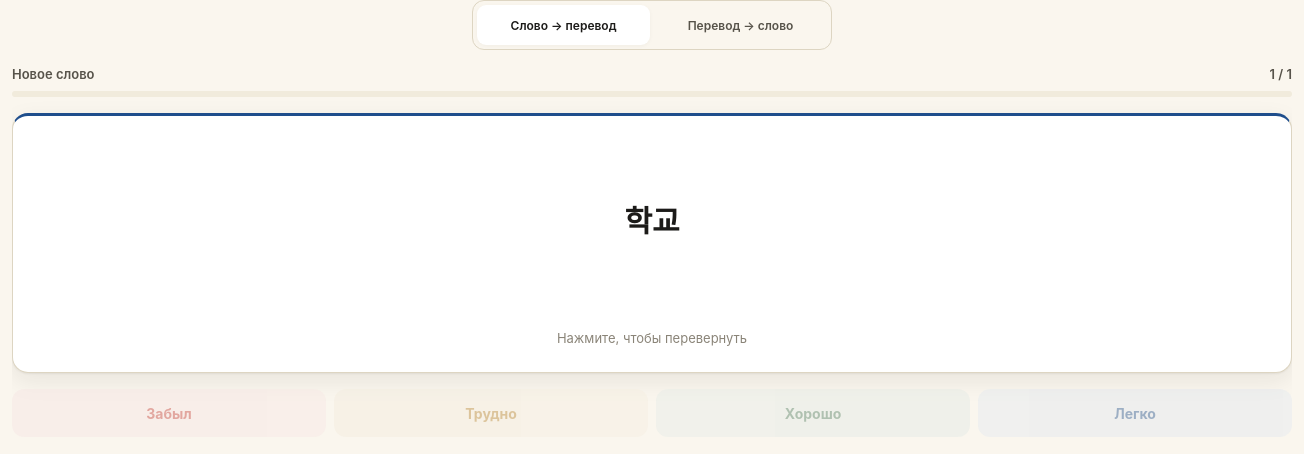
Test: возвращает забытую карточку и сохраняет её повторную оценку
The image size is (1304, 454).
Step 1. Click the button with aria-label "Показать ответ" → [652, 243], box [12,113,1292,373]
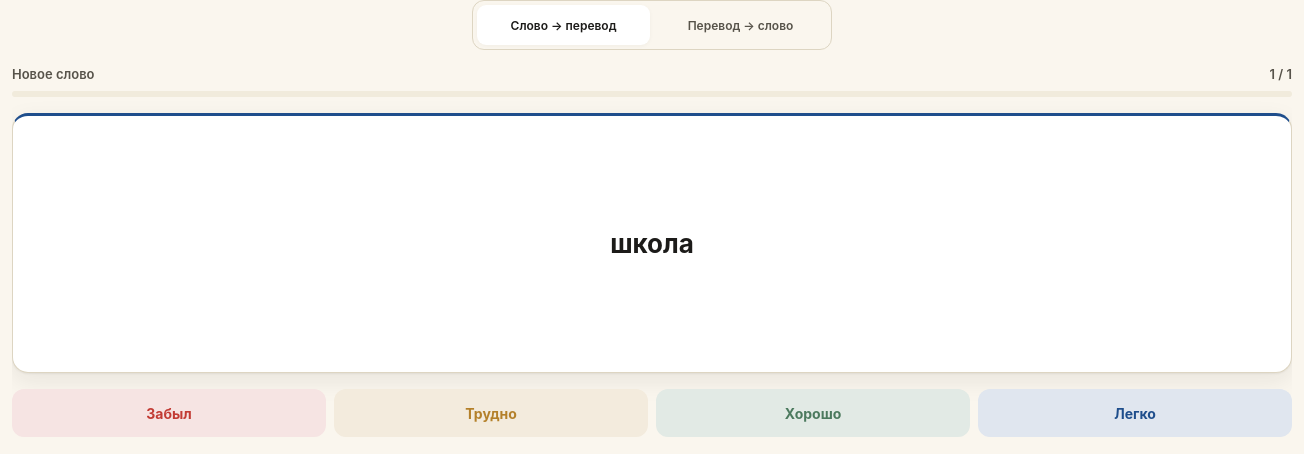
Step 2. Click the button "Забыл" → [169, 413], box [12,389,326,437]
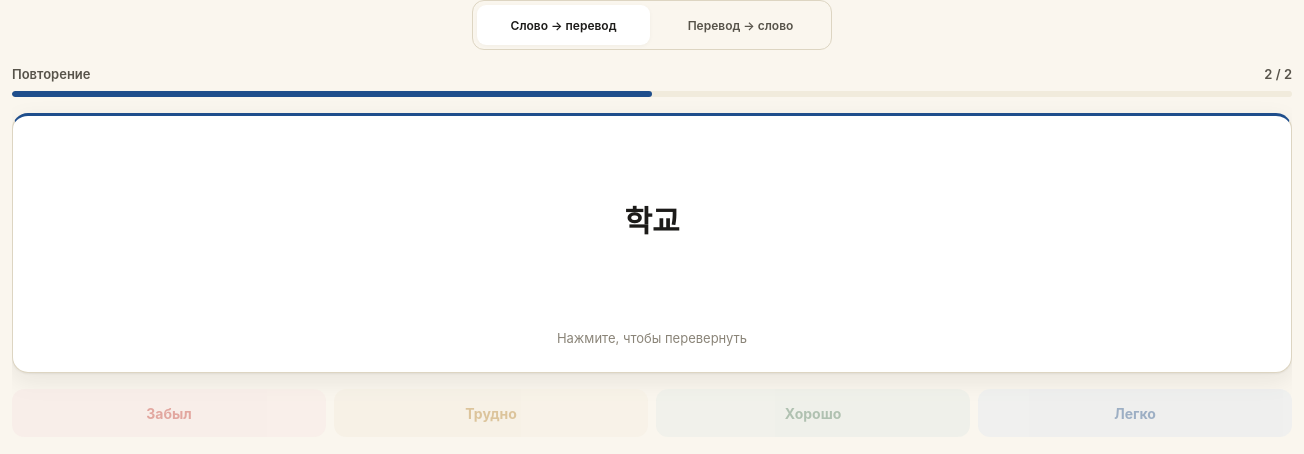
Expected: the button with aria-label "Показать ответ" is shown
Step 3. Click the button with aria-label "Показать ответ" → [652, 243], box [12,113,1292,373]
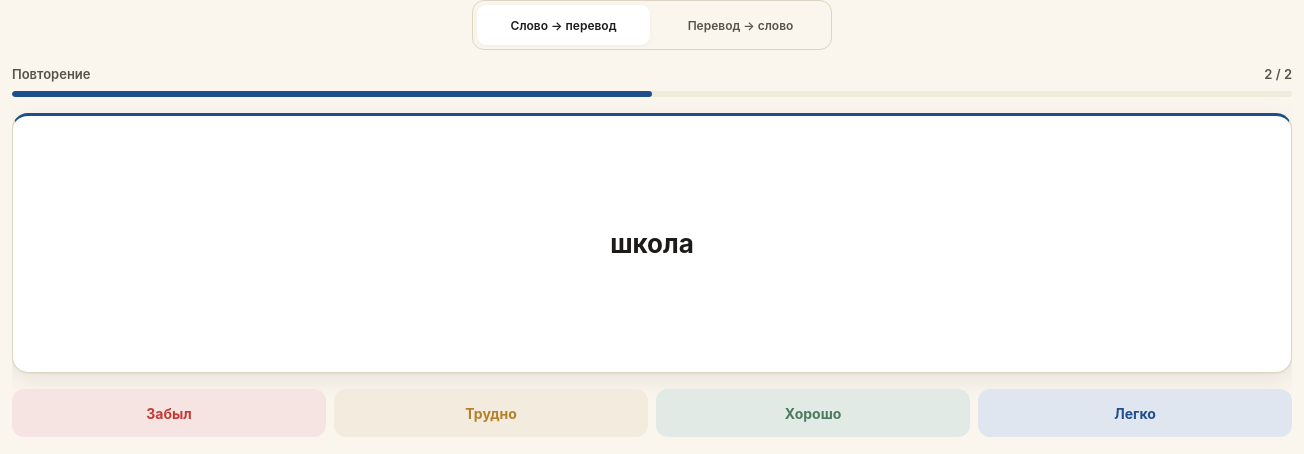
Step 4. Click the button "Хорошо" → [813, 413], box [656,389,970,437]
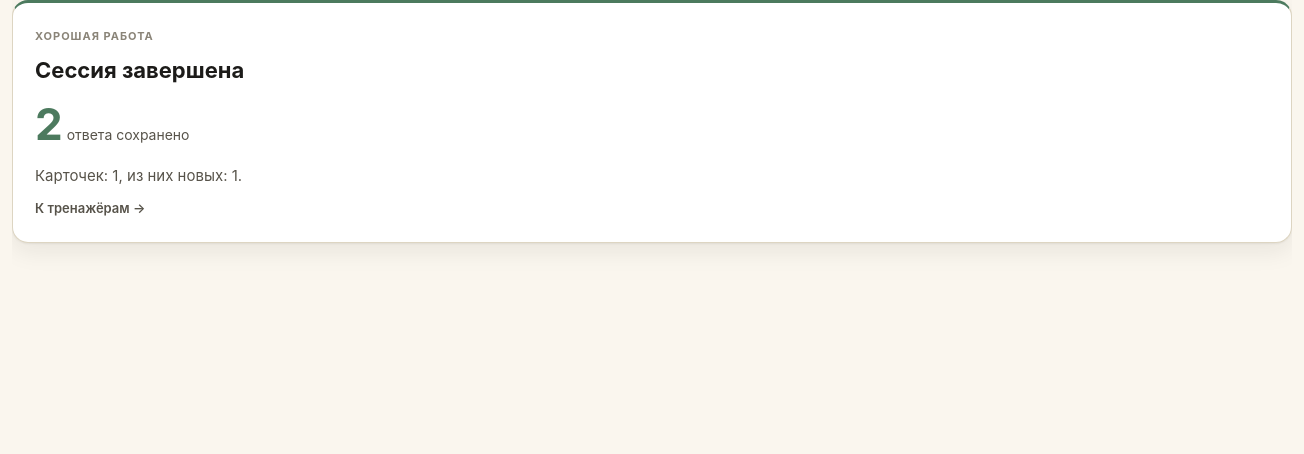
Expected: the heading "Сессия завершена" is shown, [35,57,244,83]
